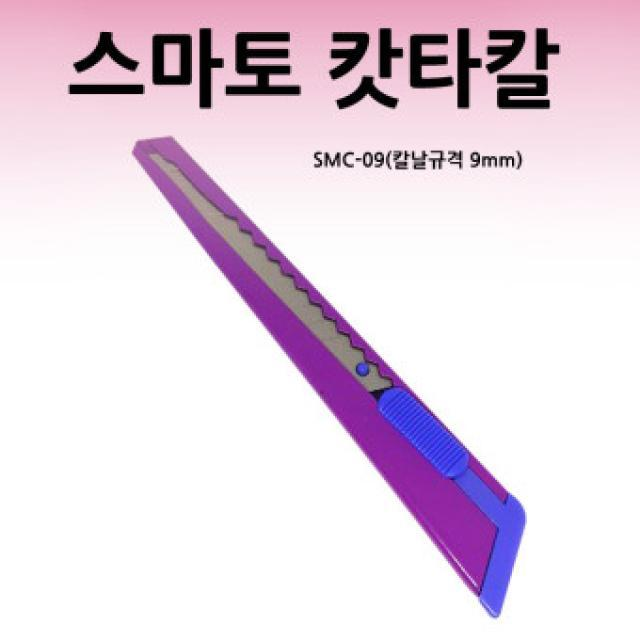cutter: (109, 124, 544, 622)
